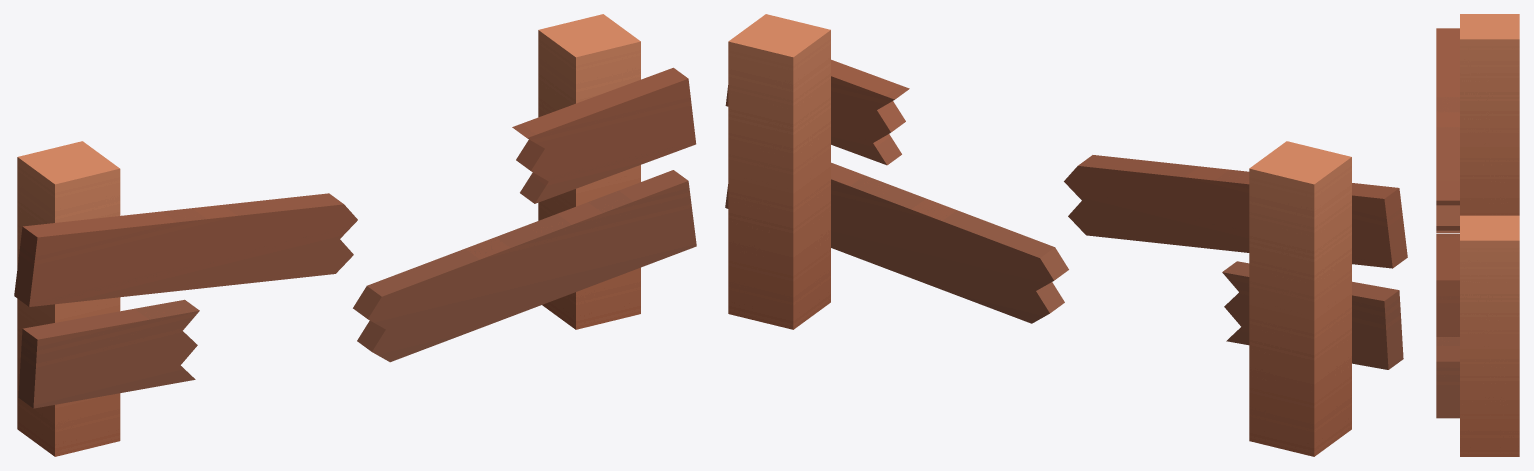
File: fence-broken.glb
3 renders of one model, left to right at view 1: azimuth 30°, elevation 25°; view 2: azimuth 150°, elevation 25°; view 3: azimuth 270°, elevation 25°, orthographic. The views are drawn at different scales.
Parts seen in each view (by area): view 1: fence-broken; view 2: fence-broken; view 3: fence-broken.
Boxes of the visible parts, x1,y1,x2,y2 form: fence-broken: (14, 14, 696, 456); fence-broken: (725, 14, 1407, 456); fence-broken: (1436, 14, 1519, 456).
Size of the model in its own units: 1.03 by 0.4 by 0.14.
1 material, 1 textured.
